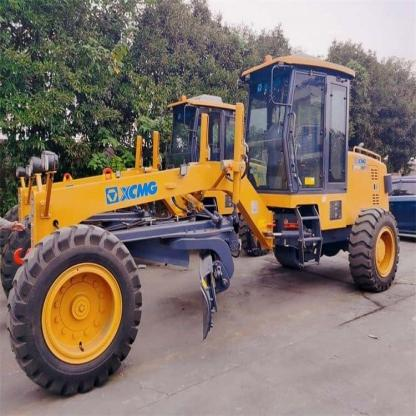bull_dozer/loader/grader: (1, 50, 412, 396)
